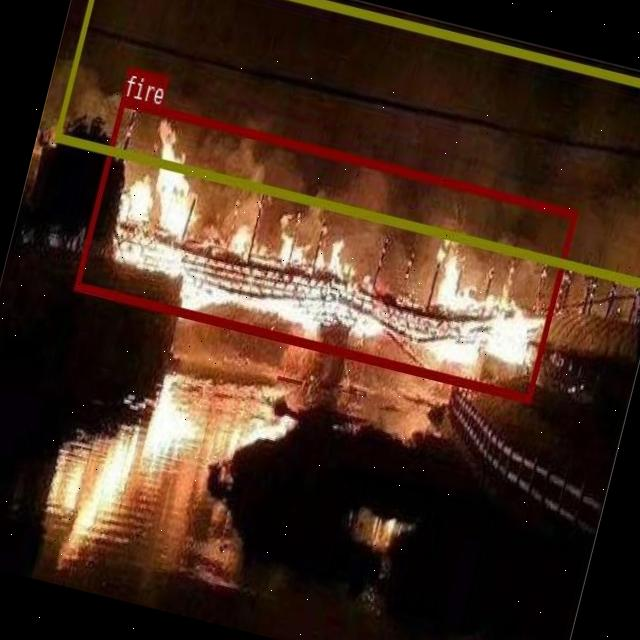fire: (73, 95, 578, 401)
smoke: (53, 0, 640, 285)
